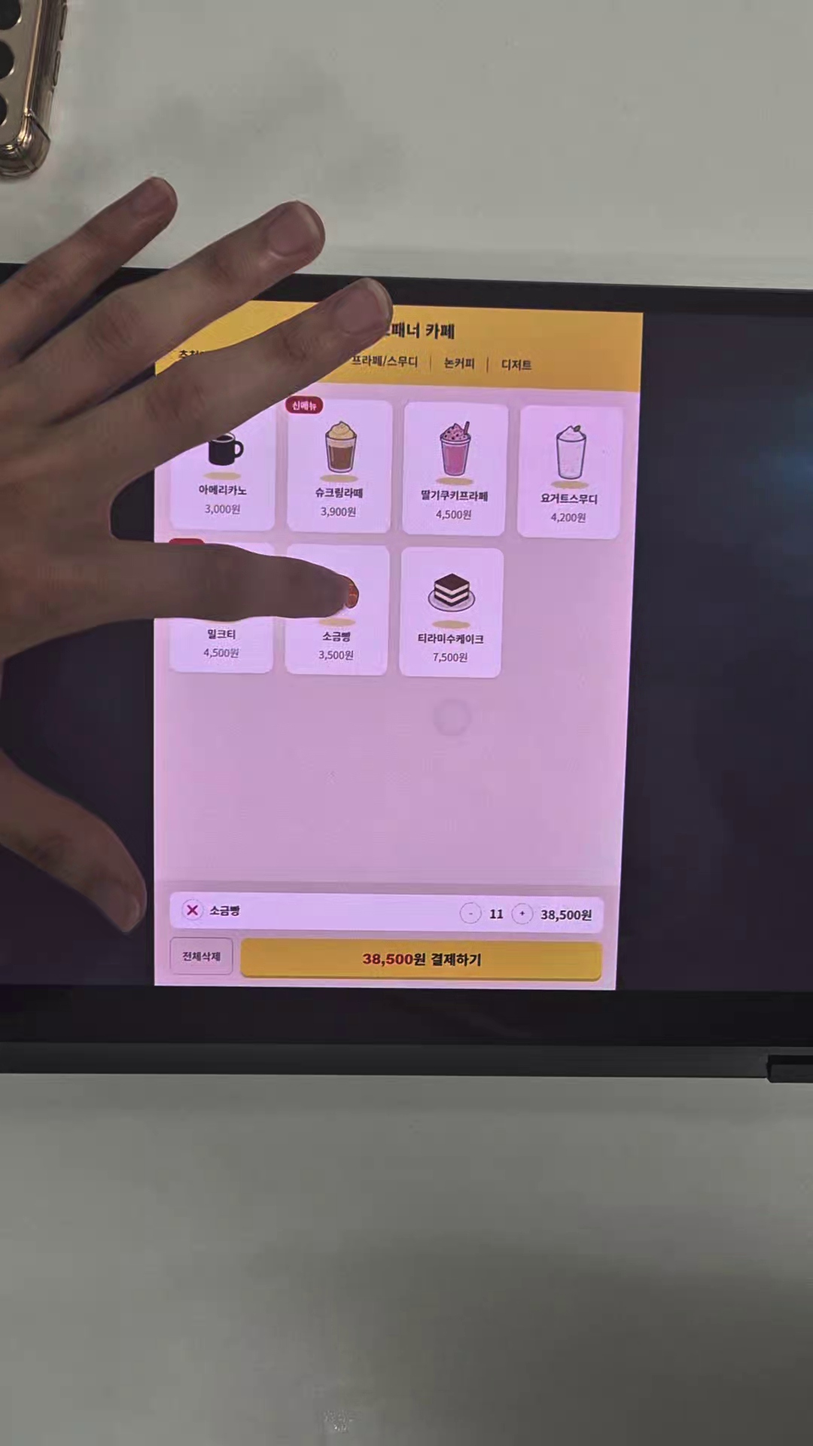action_button: (239, 938, 603, 982), (169, 937, 233, 976)
cart_item: (169, 891, 604, 934)
category_tab: (350, 355, 419, 369), (500, 357, 533, 373), (443, 355, 475, 371)
menu_back: (401, 401, 509, 536), (516, 405, 624, 540), (286, 398, 393, 534), (170, 395, 276, 532), (168, 541, 275, 674), (284, 544, 390, 676), (398, 546, 504, 678)
menu_name: (419, 488, 489, 504), (416, 631, 484, 646), (539, 491, 599, 507), (197, 482, 248, 498), (313, 485, 364, 500), (205, 627, 237, 641), (321, 630, 352, 644)
menu_price: (202, 502, 242, 516), (318, 649, 355, 664), (201, 646, 240, 660), (319, 505, 357, 519), (435, 508, 473, 522), (549, 511, 587, 525), (432, 651, 469, 665)
